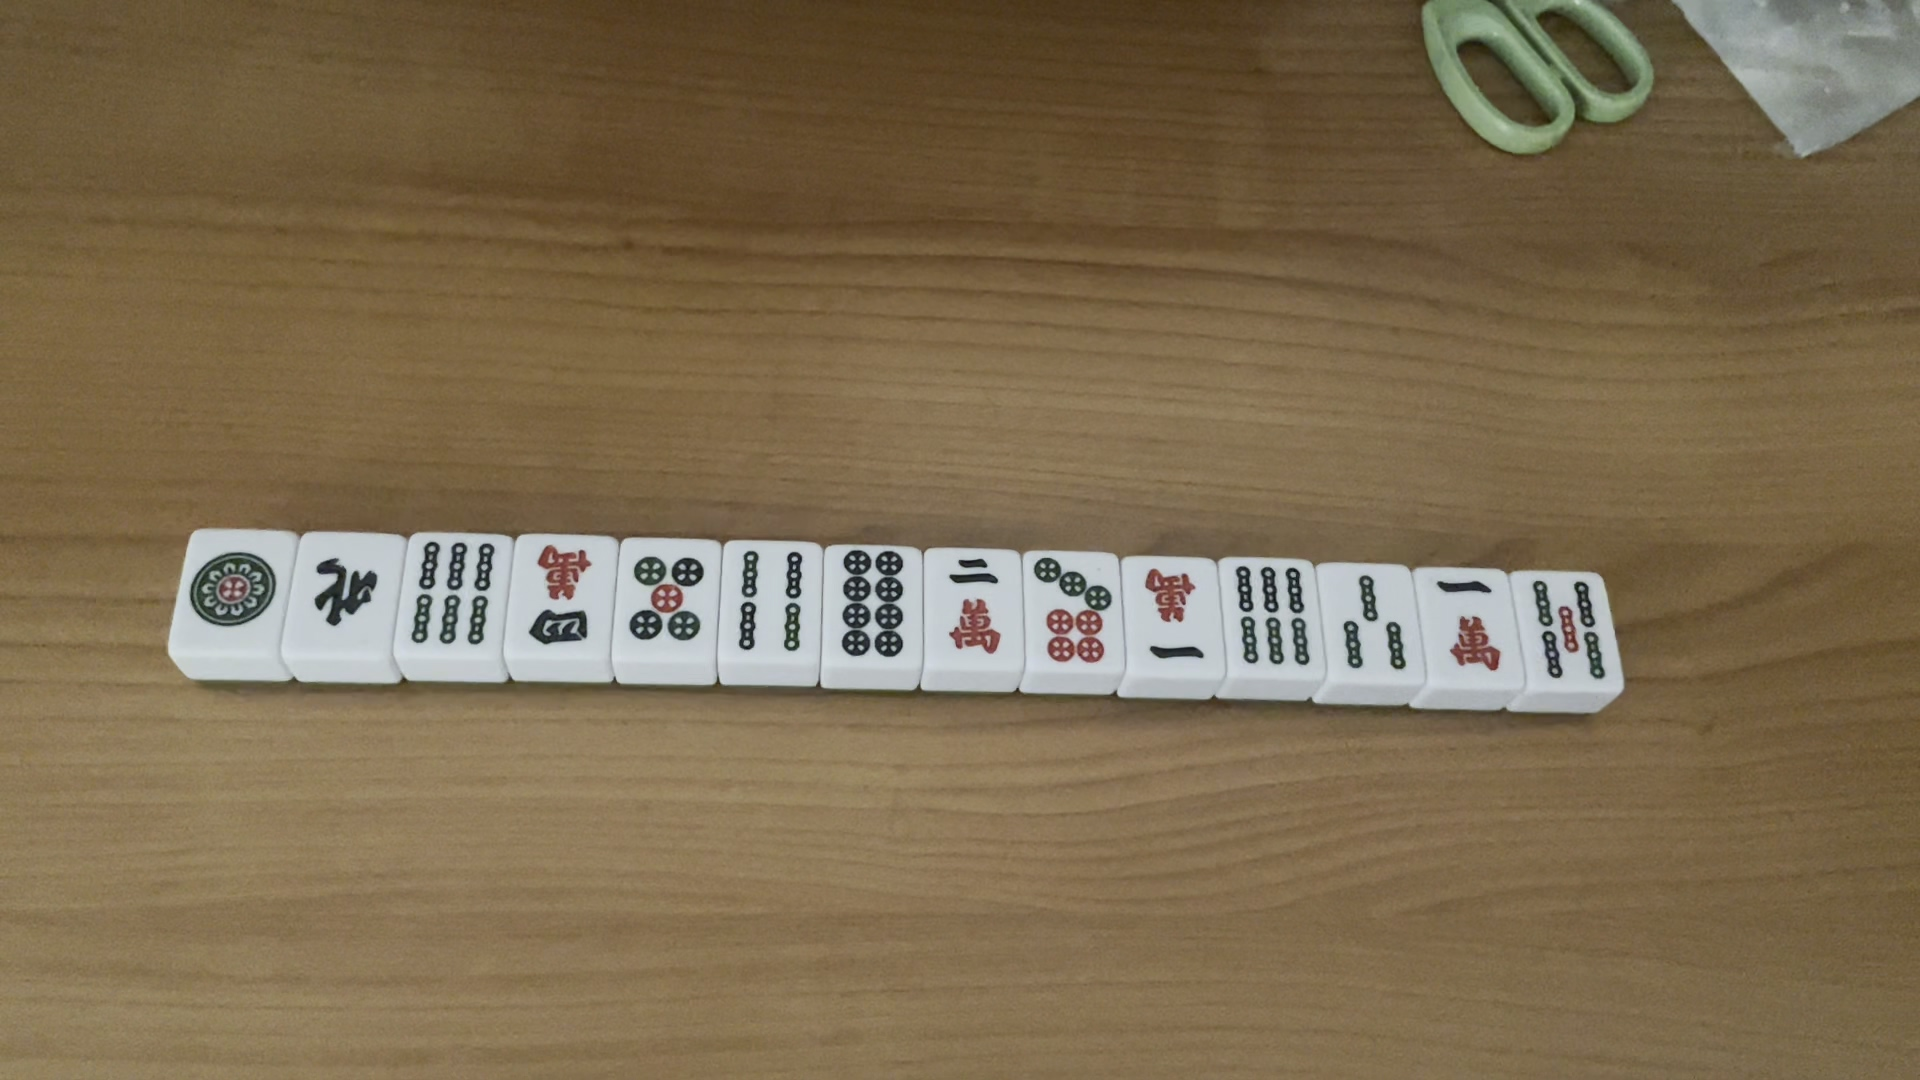b-3: (1333, 564, 1418, 680)
b-4: (520, 543, 600, 653), (735, 550, 804, 655)
b-5: (1534, 575, 1615, 691)
b-6: (407, 538, 502, 651), (1226, 560, 1321, 673)
c-1: (1129, 563, 1220, 666), (1432, 574, 1518, 682)
c-2: (932, 549, 1006, 659)
d-1: (183, 546, 284, 634)
d-5: (626, 551, 705, 647)
d-7: (1031, 556, 1124, 665)
d-8: (832, 547, 913, 659)
honors-north: (302, 549, 389, 628)
